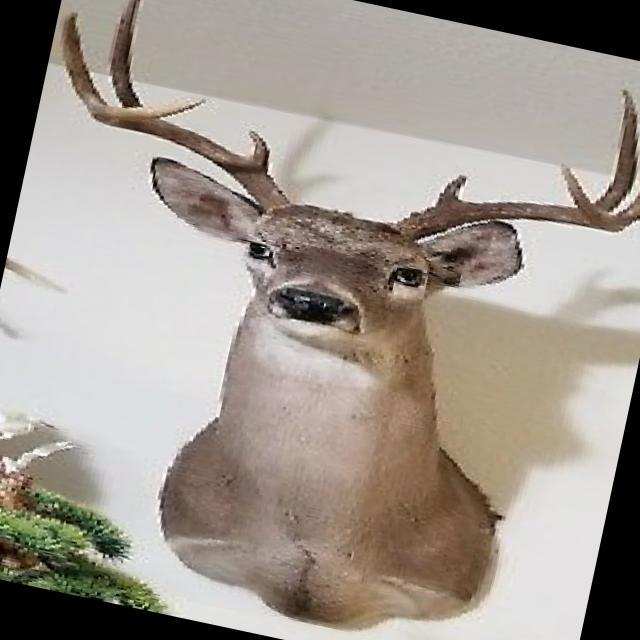L-F: (395, 166, 624, 239)
L-G1: (434, 173, 467, 206)
L-G2: (591, 88, 639, 215)
L-G3: (614, 192, 640, 227)
R-F: (89, 99, 291, 209)
R-G1: (242, 130, 270, 174)
R-G2: (109, 0, 144, 107)
R-G3: (60, 10, 106, 109)
